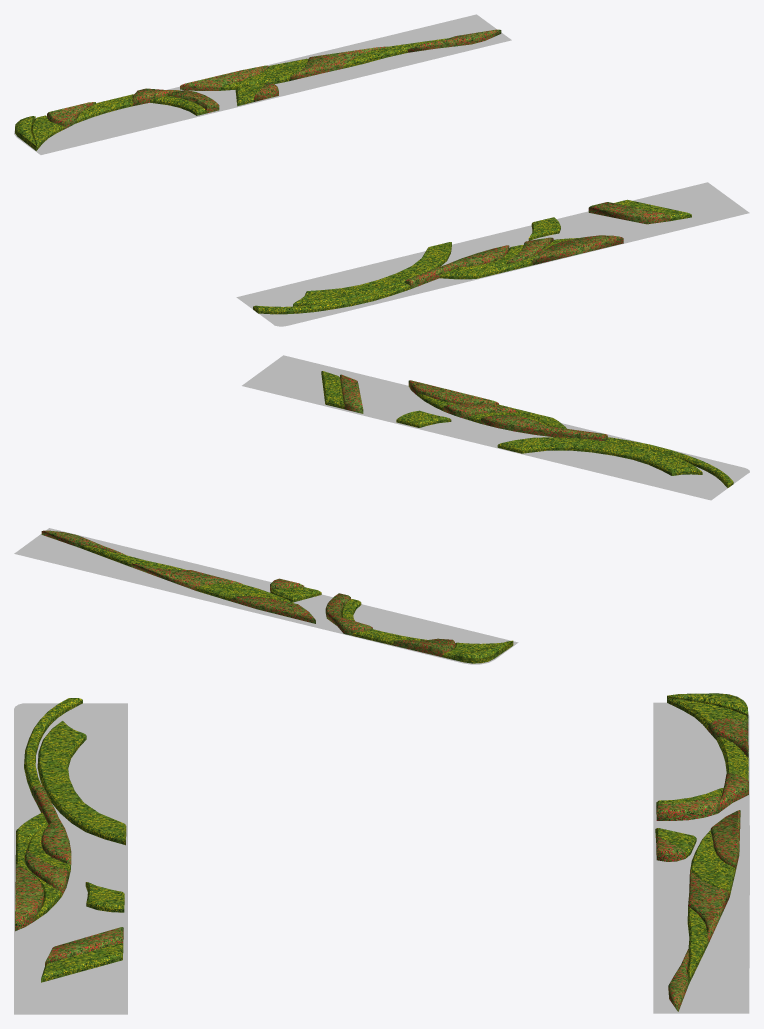
File: Office_001_grass.FBX
3 renders of one model, top to bottom at view 1: azimuth 30°, elevation 25°; view 2: azimuth 150°, elevation 25°; view 3: azimuth 270°, elevation 25°, orthographic. The views are drawn at different scales.
Visible parts, largest first — view 1: lv, HUANG, H; view 2: lv, HUANG, H; view 3: lv, HUANG, H.
Boxes of the visible parts, x1,y1,x2,y2 form: lv: [14, 14, 749, 326]; HUANG: [15, 38, 691, 314]; H: [47, 29, 670, 288]; lv: [14, 355, 749, 664]; HUANG: [80, 371, 733, 663]; H: [41, 374, 607, 657]; lv: [14, 702, 749, 1014]; HUANG: [15, 693, 748, 983]; H: [15, 718, 748, 1011].
Bounding box in the file's own units: 95.53 × 1.55 × 95.27.
